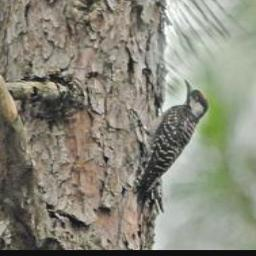Woodpecker: (131, 73, 209, 207)
